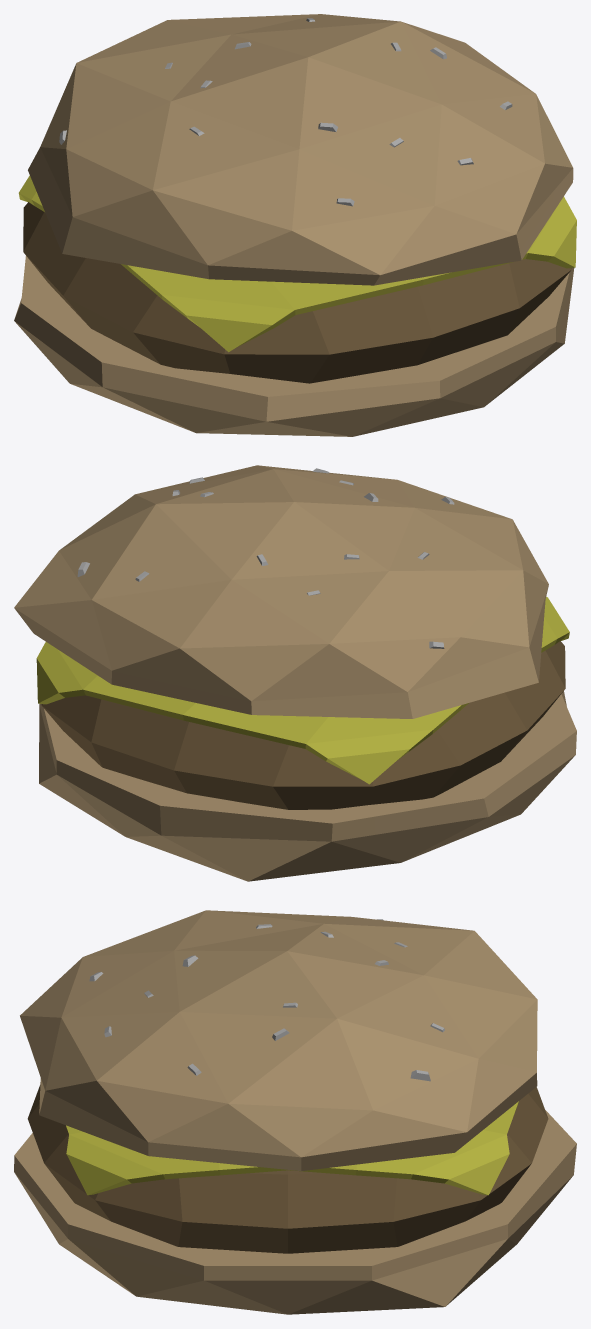
File: Cheeseburger.glb
3 renders of one model, top to bottom at view 1: azimuth 30°, elevation 25°; view 2: azimuth 150°, elevation 25°; view 3: azimuth 270°, elevation 25°, orthographic. The views are drawn at different scales.
Visible parts, largest first — view 1: Cheeseburger.001; view 2: Cheeseburger.001; view 3: Cheeseburger.001.
Part boxes in pixels (x1,y1,x2,y2): Cheeseburger.001: (14,14,576,436); Cheeseburger.001: (14,465,576,881); Cheeseburger.001: (14,910,576,1314).
Bounding box in the file's own units: 1.17 × 0.7506 × 1.23.
